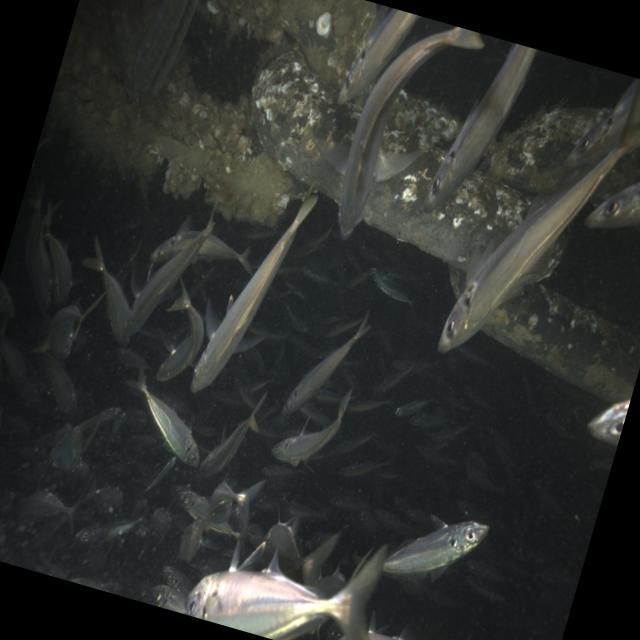ChainLink: (363, 93, 531, 268), (483, 284, 640, 402), (250, 50, 365, 201), (486, 107, 607, 194), (592, 147, 640, 205)
